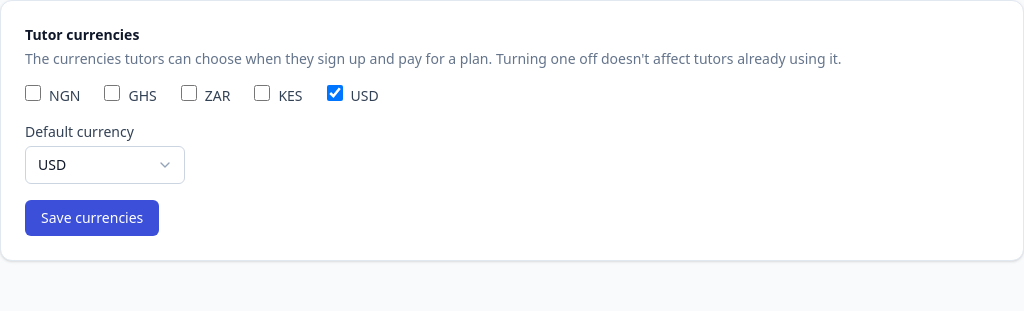
TutorCurrenciesCard › can't save with every currency switched off
Click the checkbox labelled "USD" at (335, 93), box [327,85,343,101]
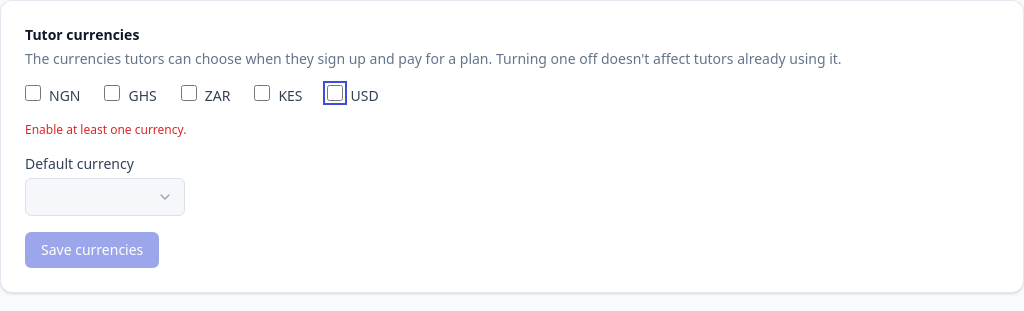
Expected: the text "Enable at least one currency." is shown, [25,121,186,138]
Expected: the button "Save currencies" is disabled, [25,232,159,268]
